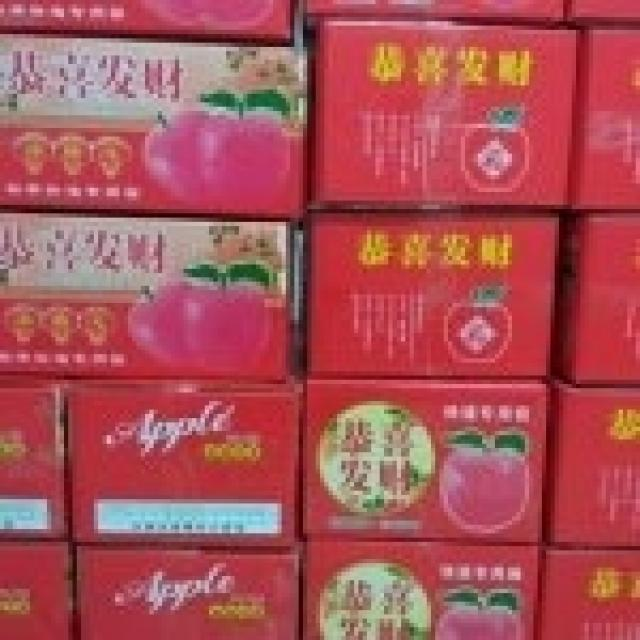box: (0, 29, 313, 222), (1, 210, 292, 382), (310, 23, 581, 207), (306, 210, 560, 377), (303, 376, 551, 541), (69, 376, 305, 547), (300, 542, 542, 636), (69, 539, 303, 635), (549, 211, 636, 386), (549, 375, 636, 546), (569, 24, 636, 213), (0, 3, 294, 41), (538, 541, 636, 636), (304, 1, 569, 35), (1, 540, 73, 636), (567, 0, 636, 26)
